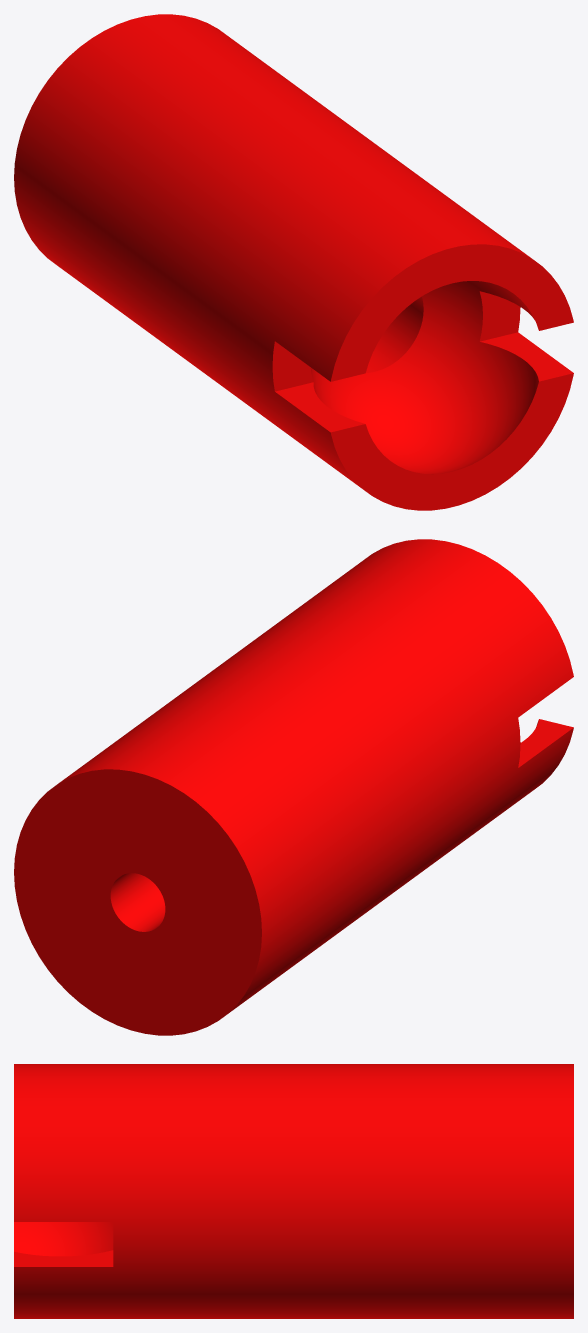
File: ball_mount.glb
3 renders of one model, top to bottom at view 1: azimuth 30°, elevation 25°; view 2: azimuth 150°, elevation 25°; view 3: azimuth 270°, elevation 25°, orthographic. The views are drawn at different scales.
Size of the model in its own units: 0.0154 by 0.0154 by 0.0338.
